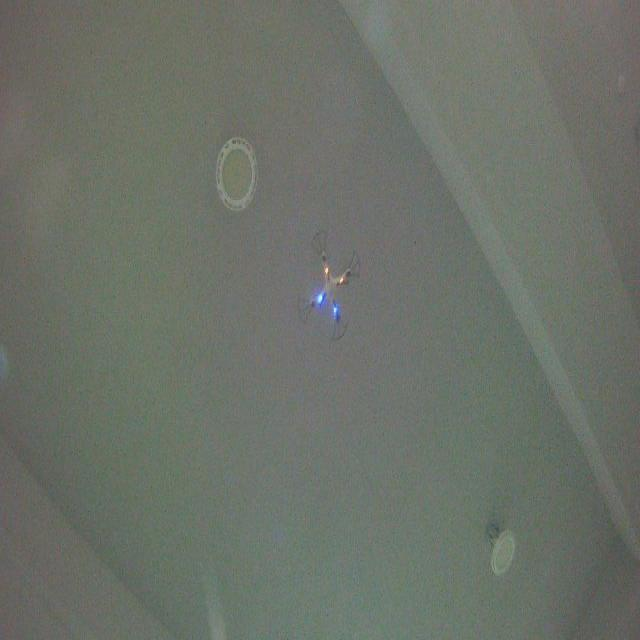drone: (295, 228, 363, 344)
